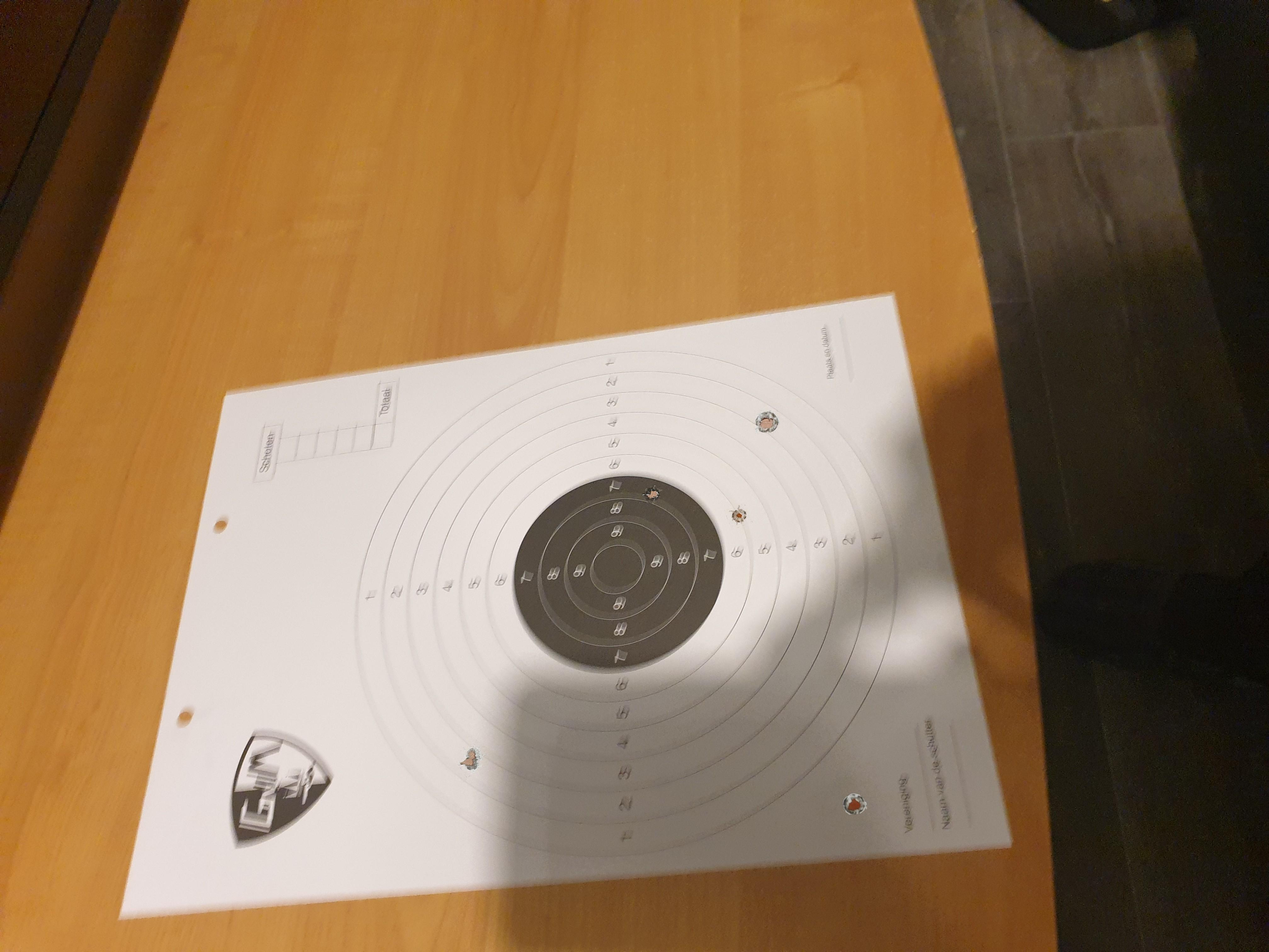hole: (841, 790, 866, 816), (755, 411, 779, 434), (729, 505, 747, 524), (642, 485, 660, 501), (465, 746, 481, 760), (460, 760, 479, 771)
